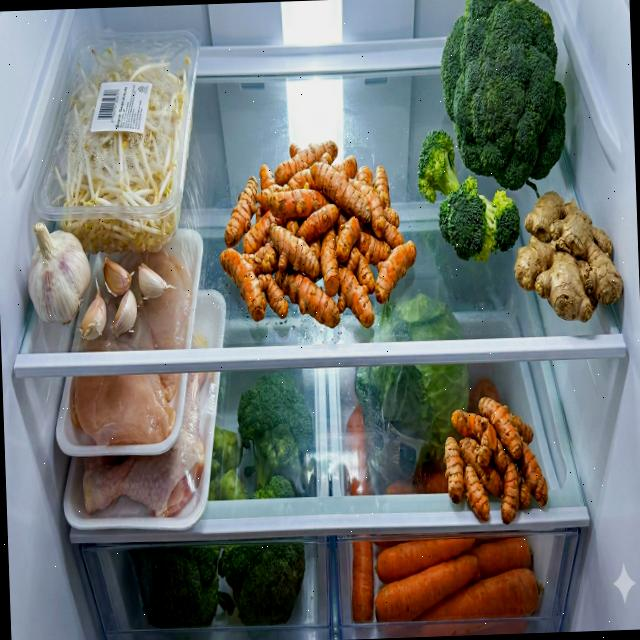bean_sprouts: (46, 45, 198, 260)
brocolli: (133, 369, 320, 631), (411, 0, 572, 261)
cabbage: (368, 291, 472, 469)
carrot: (349, 532, 545, 626)
chicken: (64, 255, 198, 448), (78, 372, 215, 520)
garlic: (77, 254, 169, 341), (26, 218, 92, 326)
ginger: (512, 187, 624, 324)
turmeric: (215, 136, 419, 334), (441, 396, 549, 524)
